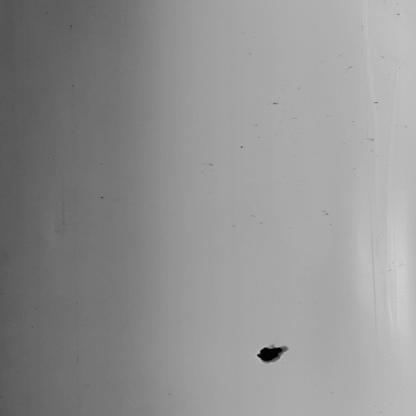kongdong: (248, 333, 305, 366)
